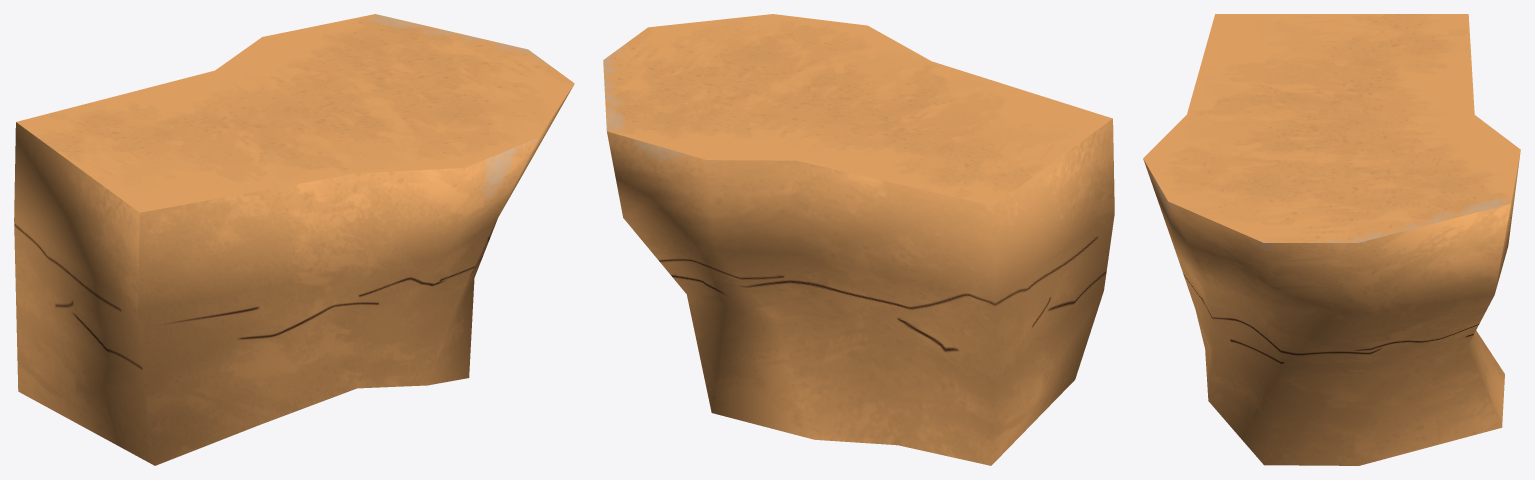
File: Rock_01.fbx
3 views of the same model, side by side, from view 1: azimuth 30°, elevation 25°; view 2: azimuth 150°, elevation 25°; view 3: azimuth 270°, elevation 25° (orthographic). The views are drawn at different scales.
Parts seen in each view (by area): view 1: Cliff01; view 2: Cliff01; view 3: Cliff01.
Boxes of the visible parts, x1,y1,x2,y2 form: Cliff01: (14,14,574,465); Cliff01: (603,14,1114,465); Cliff01: (1143,14,1520,465).
Bounding box in the file's own units: 1624 × 911 × 1128.
1 material, 1 textured.
